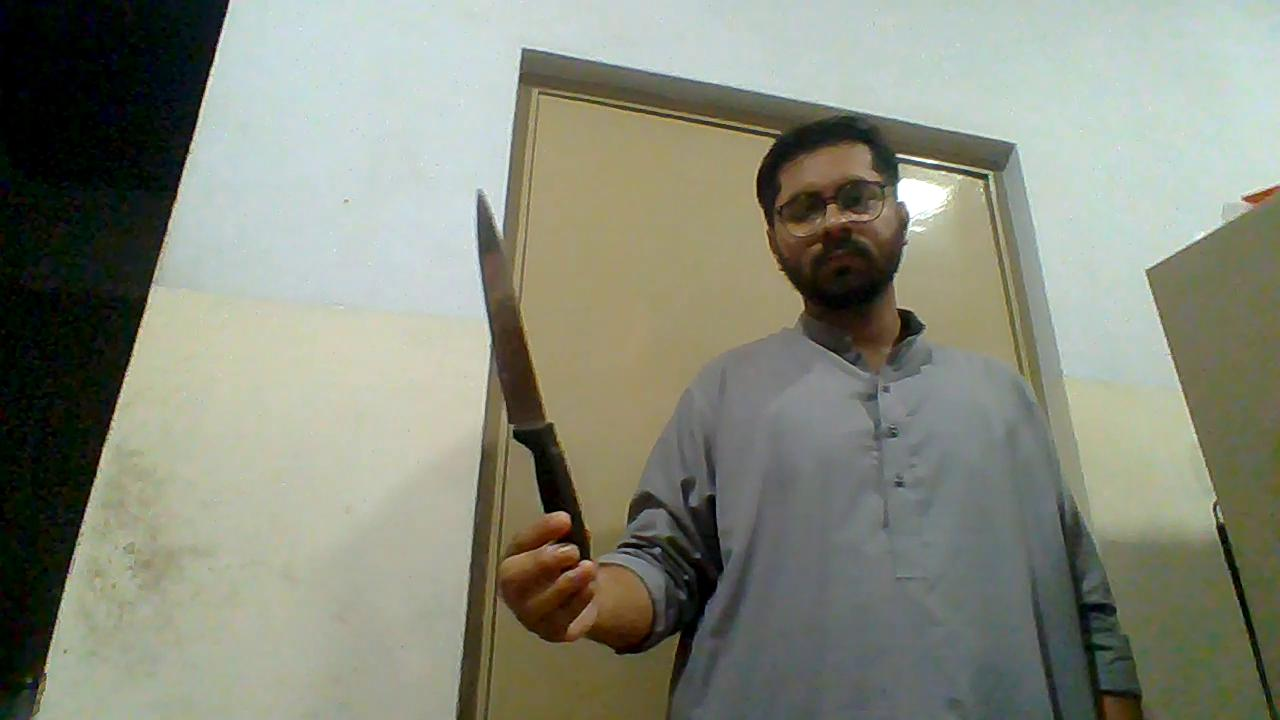criminal: (475, 114, 1146, 720)
weapon: (474, 190, 594, 560)
